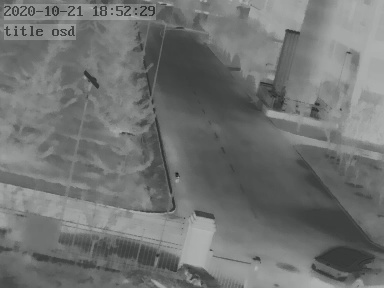vehicle: (309, 243, 384, 288)
